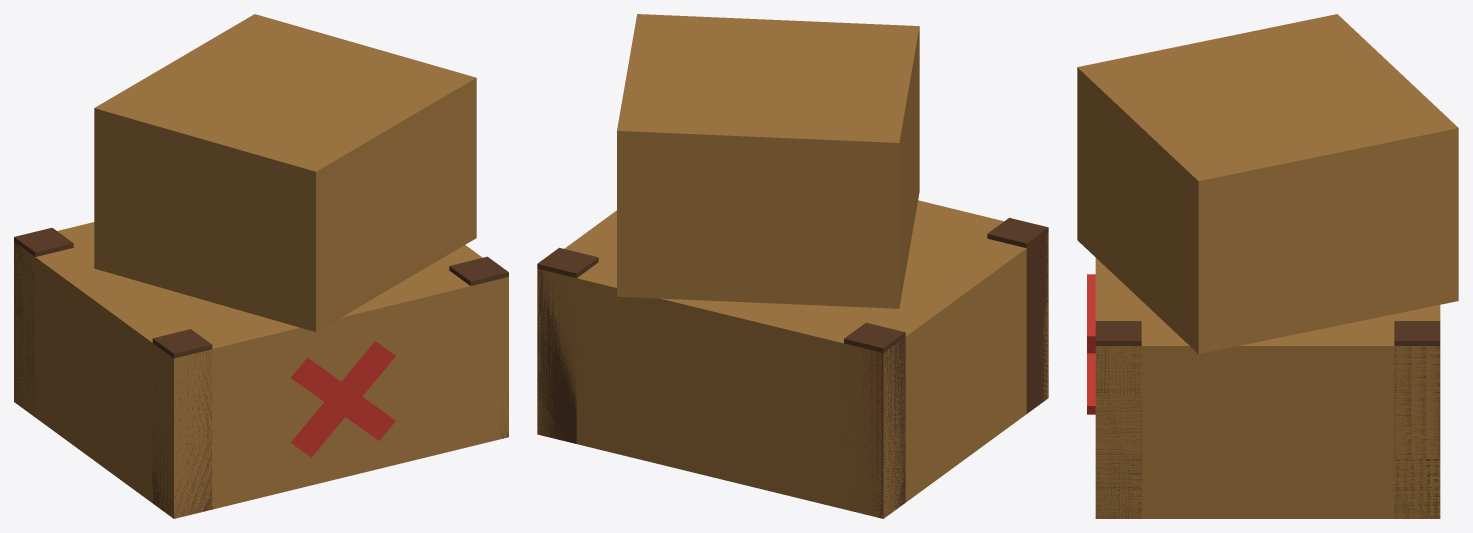
Rendered from env_r13_pirate_crates.glb.
3 renders of one model, left to right at view 1: azimuth 30°, elevation 25°; view 2: azimuth 150°, elevation 25°; view 3: azimuth 270°, elevation 25°, orthographic. The views are drawn at different scales.
Parts seen in each view (by area): view 1: env_r13_pirate_crates; view 2: env_r13_pirate_crates; view 3: env_r13_pirate_crates.
Part boxes in pixels (bbox=[...]): env_r13_pirate_crates: bbox=[14, 14, 508, 518]; env_r13_pirate_crates: bbox=[537, 14, 1048, 518]; env_r13_pirate_crates: bbox=[1077, 14, 1458, 518].
Bounding box in the file's own units: 1.6 × 1.4 × 1.4.
Materials: 1 (1 with a texture image).
